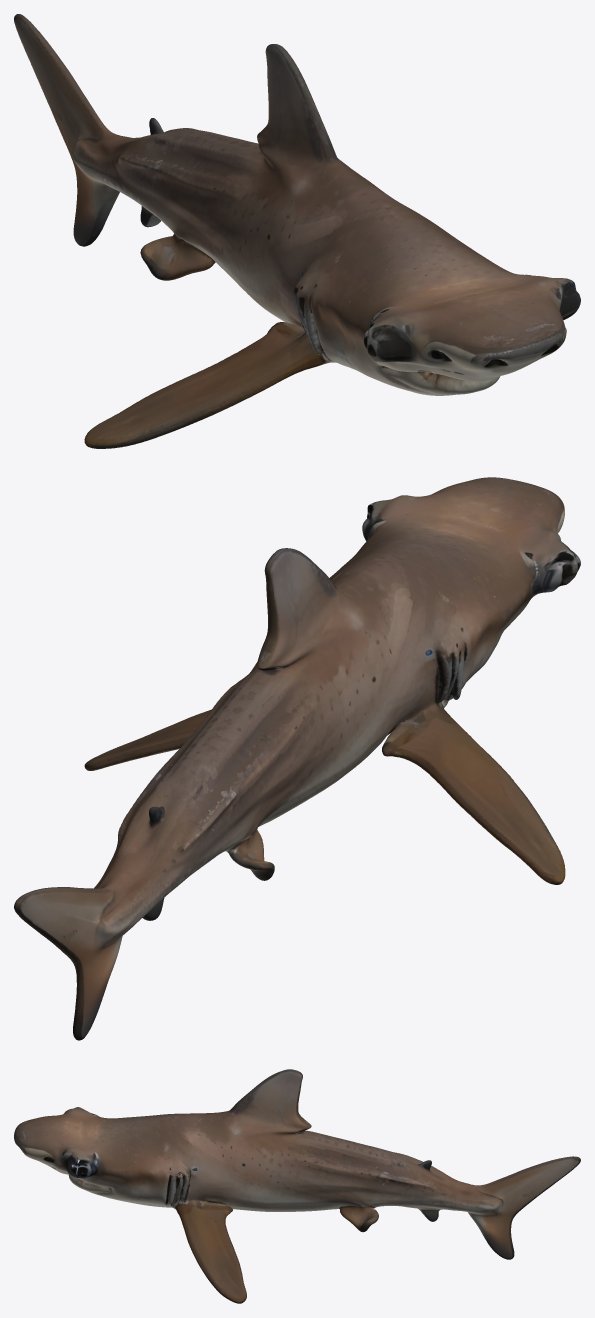
The model's file is hammer_e1.glb.
3 renders of one model, top to bottom at view 1: azimuth 30°, elevation 25°; view 2: azimuth 150°, elevation 25°; view 3: azimuth 270°, elevation 25°, orthographic. The views are drawn at different scales.
Visible parts, largest first — view 1: tripo_node_d0137ca2-2fe1-4f33-a513-d0e6cd8d5a4b; view 2: tripo_node_d0137ca2-2fe1-4f33-a513-d0e6cd8d5a4b; view 3: tripo_node_d0137ca2-2fe1-4f33-a513-d0e6cd8d5a4b.
Part boxes in pixels (box(x1,y1,x2,y2)): tripo_node_d0137ca2-2fe1-4f33-a513-d0e6cd8d5a4b: box(14, 14, 580, 448); tripo_node_d0137ca2-2fe1-4f33-a513-d0e6cd8d5a4b: box(14, 477, 580, 1040); tripo_node_d0137ca2-2fe1-4f33-a513-d0e6cd8d5a4b: box(14, 1069, 580, 1303).
Bounding box in the file's own units: 0.5365 × 0.3698 × 1.
1 material, 1 textured.
